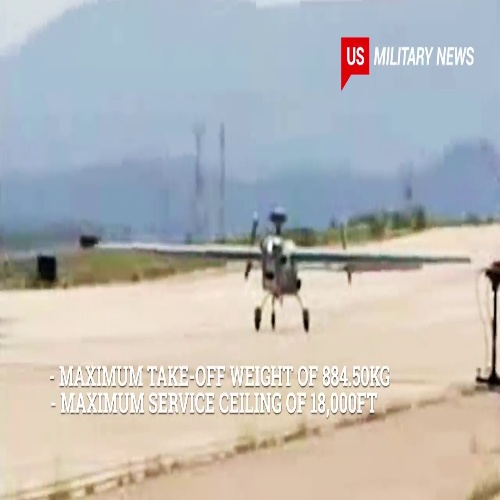uav: (90, 204, 473, 333)
